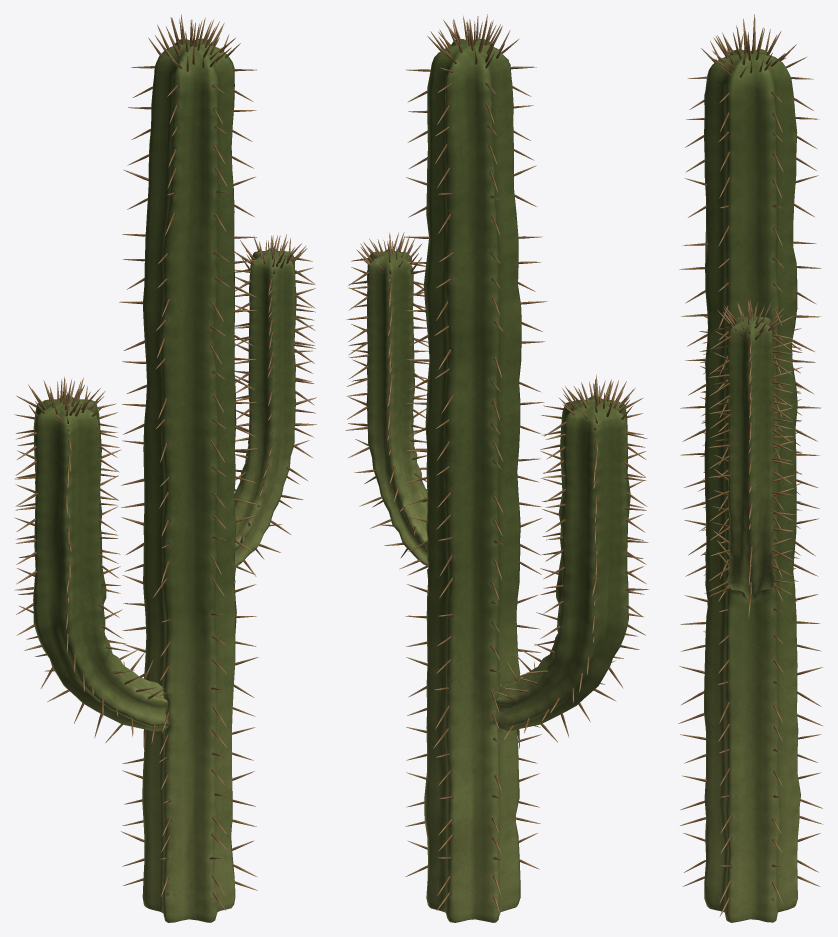
3 views of the same model, side by side, from view 1: azimuth 30°, elevation 25°; view 2: azimuth 150°, elevation 25°; view 3: azimuth 270°, elevation 25° (orthographic).
Visible parts, largest first — view 1: cactus.1_1; view 2: cactus.1_1; view 3: cactus.1_1.
Part boxes in pixels (bbox=[...]): cactus.1_1: bbox=[14, 14, 316, 922]; cactus.1_1: bbox=[345, 14, 649, 922]; cactus.1_1: bbox=[678, 14, 822, 922].
Size of the model in its own units: 0.0244 by 0.0687 by 0.0102.
Materials: 1 (1 with a texture image).
